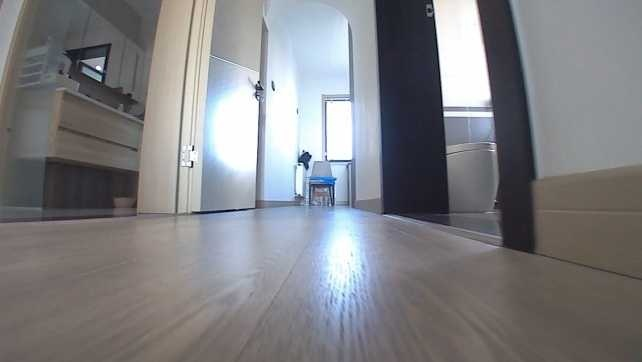door_anno: (173, 0, 266, 213)
door_sill: (381, 210, 503, 248)
toilet: (446, 139, 499, 215)
washstand: (11, 83, 143, 175)
